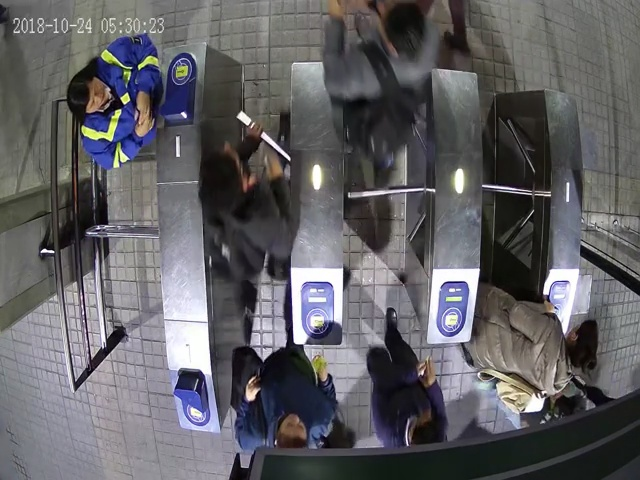Chaleco_azul: (66, 34, 164, 170)
